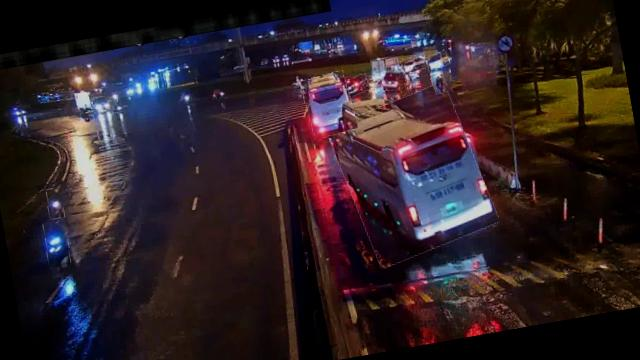Bike: (42, 217, 72, 268), (46, 187, 66, 221), (430, 74, 448, 94)
Bus: (329, 83, 496, 267), (300, 70, 358, 139)
Car: (380, 67, 407, 92), (343, 74, 371, 96), (401, 54, 428, 74), (424, 50, 450, 70)
